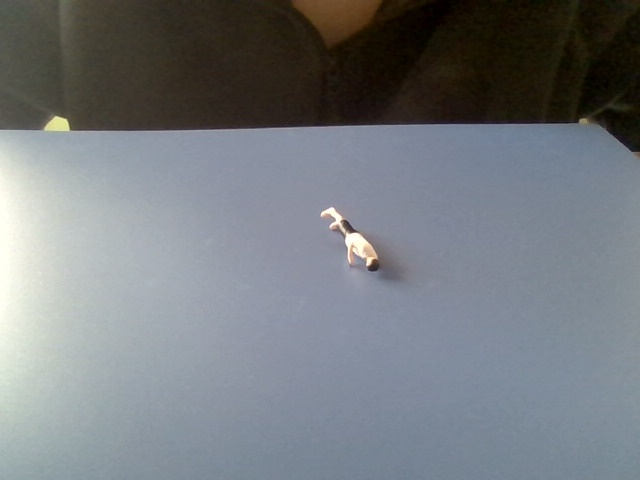fall: (311, 201, 387, 279)
